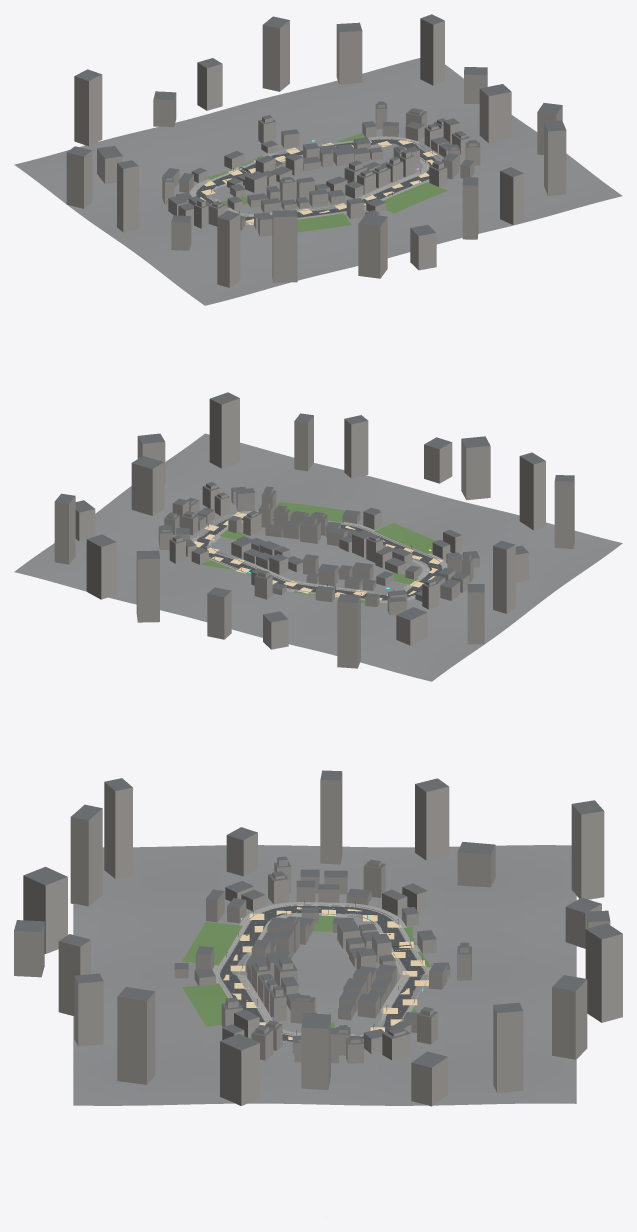
The model's file is park_boulevard.glb.
3 renders of one model, top to bottom at view 1: azimuth 30°, elevation 25°; view 2: azimuth 150°, elevation 25°; view 3: azimuth 270°, elevation 25°, orthographic. The views are drawn at different scales.
Visible parts, largest first — view 1: park_boulevard - City; view 2: park_boulevard - City; view 3: park_boulevard - City.
Boxes of the visible parts, left/top/right/bottom form: park_boulevard - City: left=14, top=14, right=622, bottom=305; park_boulevard - City: left=14, top=392, right=622, bottom=681; park_boulevard - City: left=14, top=770, right=622, bottom=1106.
Size of the model in its own units: 968 by 549 by 920.
